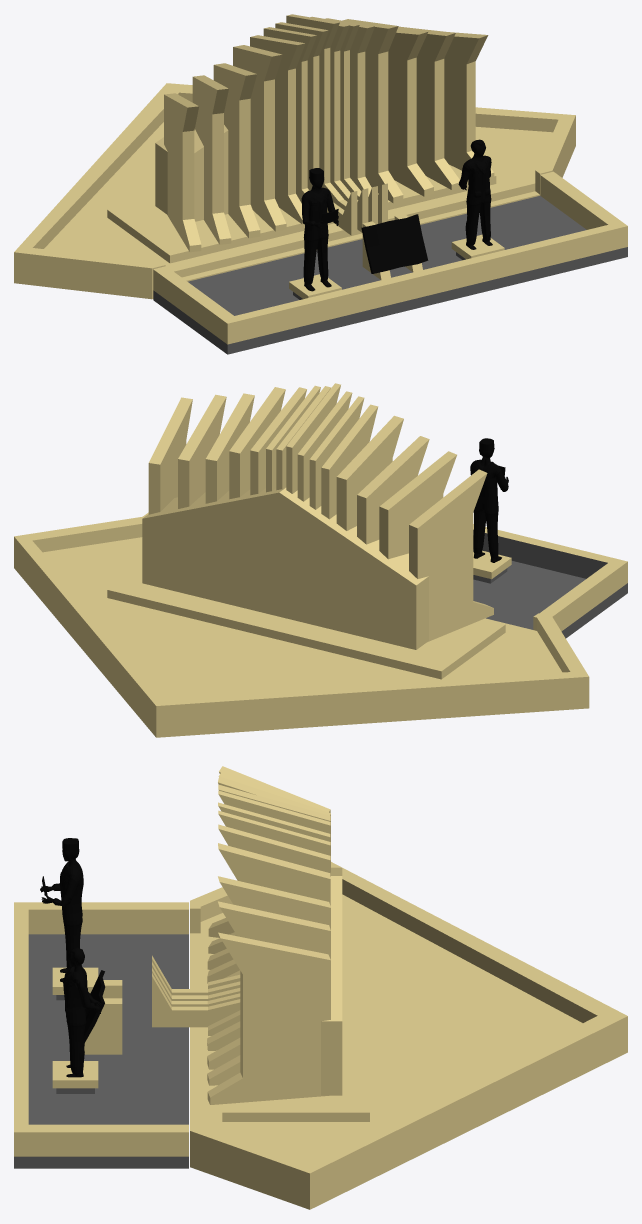
File: Monumen Proklamator.fbx
3 renders of one model, top to bottom at view 1: azimuth 30°, elevation 25°; view 2: azimuth 150°, elevation 25°; view 3: azimuth 270°, elevation 25°, orthographic. The views are drawn at different scales.
Parts seen in each view (by area): view 1: Cube.004, Cube.009, Cube.011, Cube.014, Cube.023, Cube.024, Cube.013, Cube.010, Cube.021, Cube.025, Cube.022, Cube.012 (+13 smaller); view 2: Cube.009, Cube.026, Cube.004, Cube.011, Cube.010, Cube.012, Cube.014, Cube.013, Cube.025, Cube.024, Cube.023, Cube.021 (+10 smaller); view 3: Cube.009, Cube.004, Cube.025, Cube.011, Cube.021, Cube.024, Cube.019, Cube.026, Cube.023, Cube.020, Cube.017, Plane.002 (+13 smaller).
Boxes of the visible parts, bbox=[...] form: Cube.004: bbox=[153, 171, 627, 354]; Cube.009: bbox=[14, 83, 575, 299]; Cube.011: bbox=[107, 164, 496, 263]; Cube.014: bbox=[233, 45, 286, 231]; Cube.023: bbox=[388, 29, 433, 196]; Cube.024: bbox=[397, 26, 460, 189]; Cube.013: bbox=[213, 63, 260, 238]; Cube.010: bbox=[164, 93, 201, 252]; Cube.021: bbox=[342, 19, 403, 203]; Cube.025: bbox=[444, 32, 494, 180]; Cube.022: bbox=[250, 35, 305, 224]; Cube.012: bbox=[192, 75, 231, 244]; Cube.009: bbox=[14, 516, 589, 737]; Cube.026: bbox=[142, 486, 428, 649]; Cube.004: bbox=[143, 512, 627, 638]; Cube.011: bbox=[107, 564, 505, 679]; Cube.010: bbox=[409, 469, 493, 641]; Cube.012: bbox=[379, 451, 456, 559]; Cube.014: bbox=[336, 415, 403, 530]; Cube.013: bbox=[357, 436, 429, 544]; Cube.025: bbox=[148, 397, 192, 514]; Cube.024: bbox=[178, 394, 226, 508]; Cube.023: bbox=[205, 393, 254, 503]; Cube.021: bbox=[229, 387, 285, 499]; Cube.009: bbox=[190, 862, 627, 1209]; Cube.004: bbox=[14, 902, 188, 1168]; Cube.025: bbox=[207, 932, 330, 1104]; Cube.011: bbox=[222, 925, 369, 1121]; Cube.021: bbox=[207, 843, 330, 1050]; Cube.024: bbox=[207, 901, 330, 1085]; Cube.019: bbox=[152, 810, 330, 1027]; Cube.026: bbox=[321, 867, 342, 1095]; Cube.023: bbox=[207, 876, 330, 1069]; Cube.020: bbox=[208, 824, 330, 1035]; Cube.017: bbox=[152, 791, 330, 1000]; Plane.002: bbox=[52, 861, 83, 969].
Size of the model in its own units: 2476 by 927 by 1991.
